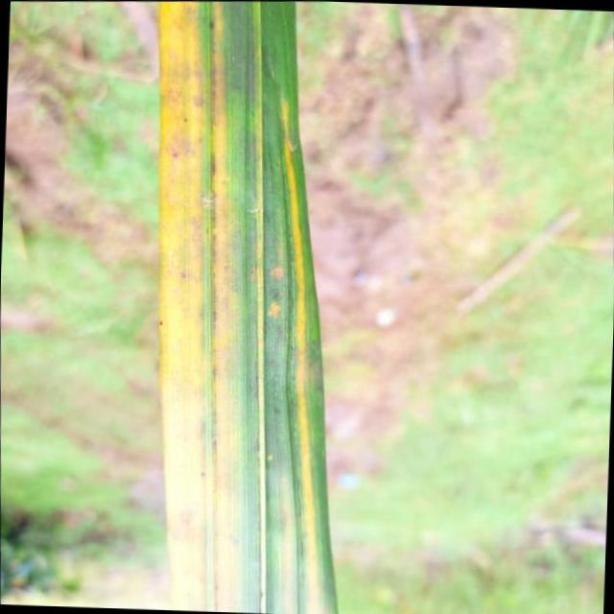Megnesium: (162, 0, 342, 614)
